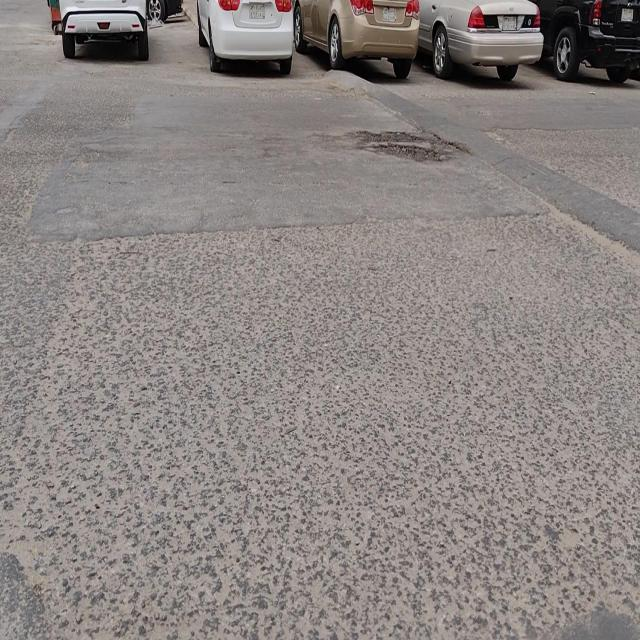Potholes: (356, 129, 459, 167)
